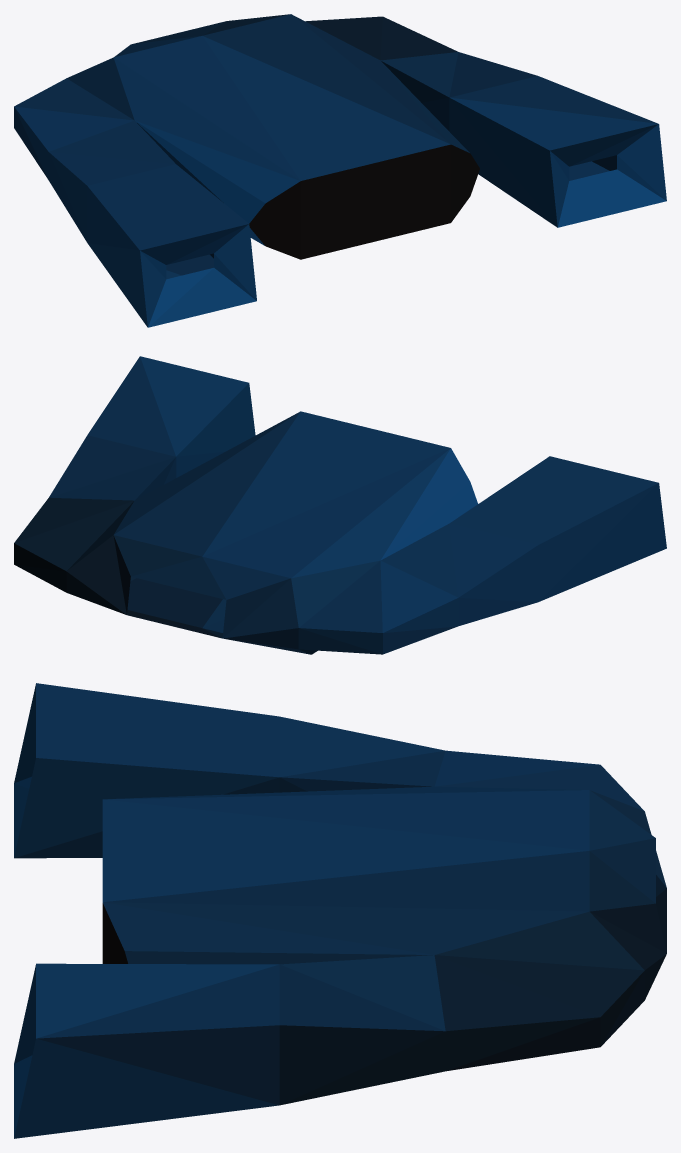
Rendered from wizard-robe.obj.
3 renders of one model, top to bottom at view 1: azimuth 30°, elevation 25°; view 2: azimuth 150°, elevation 25°; view 3: azimuth 270°, elevation 25°, orthographic. The views are drawn at different scales.
Visible parts, largest first — view 1: Item Blue wizard robe 2026-09-24_17-59-59; view 2: Item Blue wizard robe 2026-09-24_17-59-59; view 3: Item Blue wizard robe 2026-09-24_17-59-59.
Part boxes in pixels (left/top/right/bottom): Item Blue wizard robe 2026-09-24_17-59-59: left=14, top=14, right=666, bottom=327; Item Blue wizard robe 2026-09-24_17-59-59: left=14, top=356, right=666, bottom=654; Item Blue wizard robe 2026-09-24_17-59-59: left=14, top=683, right=666, bottom=1138.
Size of the model in its own units: 76 by 11 by 59.
